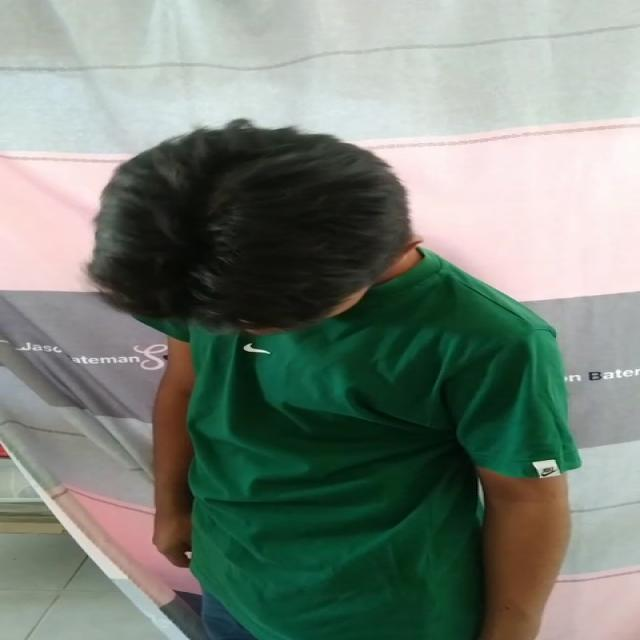9_cabeza_baja: (90, 120, 421, 335)
